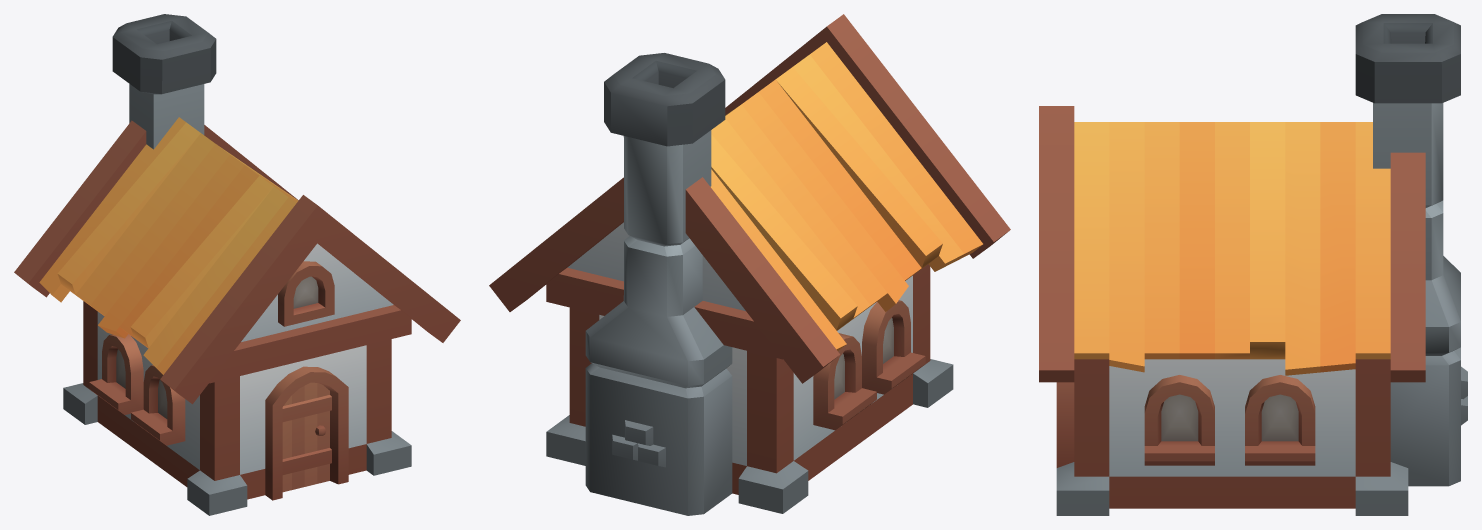
The model's file is task-building-yellow.glb.
The picture shows the model from 3 angles, left to right: view 1: azimuth 30°, elevation 25°; view 2: azimuth 150°, elevation 25°; view 3: azimuth 270°, elevation 25°; orthographic projection. The views are drawn at different scales.
Parts seen in each view (by area): view 1: building_home_A_yellow; view 2: building_home_A_yellow; view 3: building_home_A_yellow.
Boxes of the visible parts, x1,y1,x2,y2 form: building_home_A_yellow: [14, 14, 460, 515]; building_home_A_yellow: [489, 14, 1010, 515]; building_home_A_yellow: [1039, 14, 1467, 515].
Size of the model in its own units: 0.7919 by 0.93 by 0.8537.
1 material, 1 textured.
